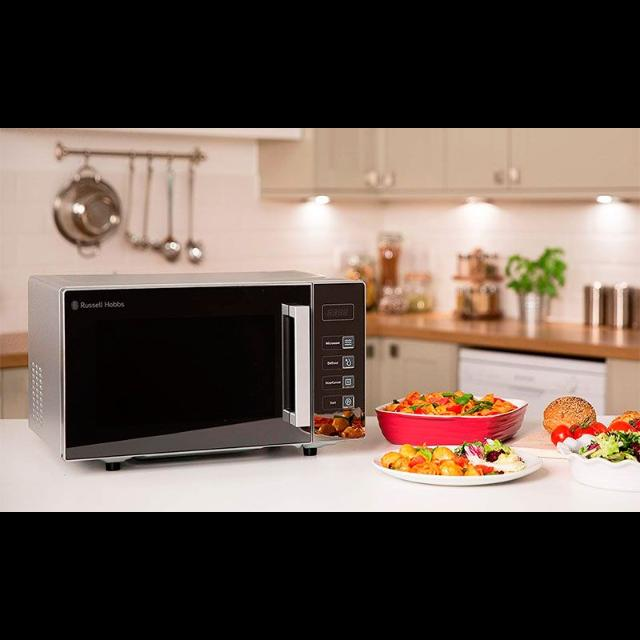Microwave: (28, 272, 368, 468)
